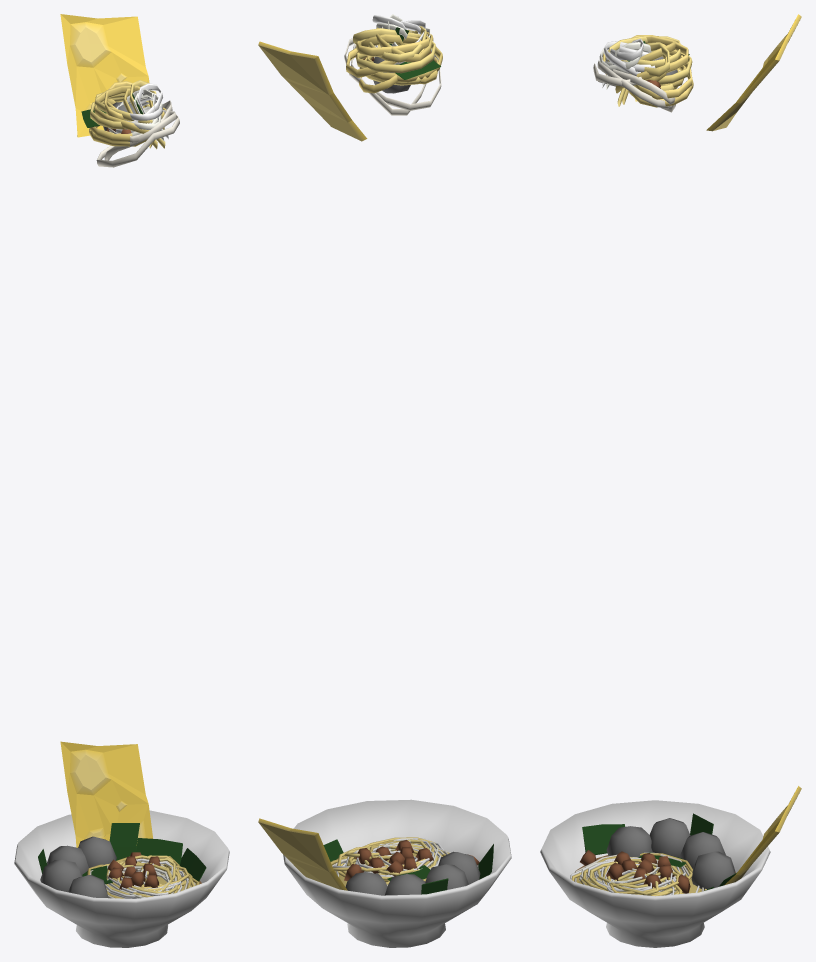
File: noodlesF.fbx
3 renders of one model, left to right at view 1: azimuth 30°, elevation 25°; view 2: azimuth 150°, elevation 25°; view 3: azimuth 270°, elevation 25°, orthographic. The views are drawn at different scales.
Parts seen in each view (by area): view 1: Noodles.001; view 2: Noodles.001; view 3: Noodles.001.
Boxes of the visible parts, x1,y1,x2,y2 form: Noodles.001: (14,14,229,947); Noodles.001: (258,14,511,947); Noodles.001: (540,14,801,947).
Bounding box in the file's own units: 20.29 × 88.92 × 23.04.
